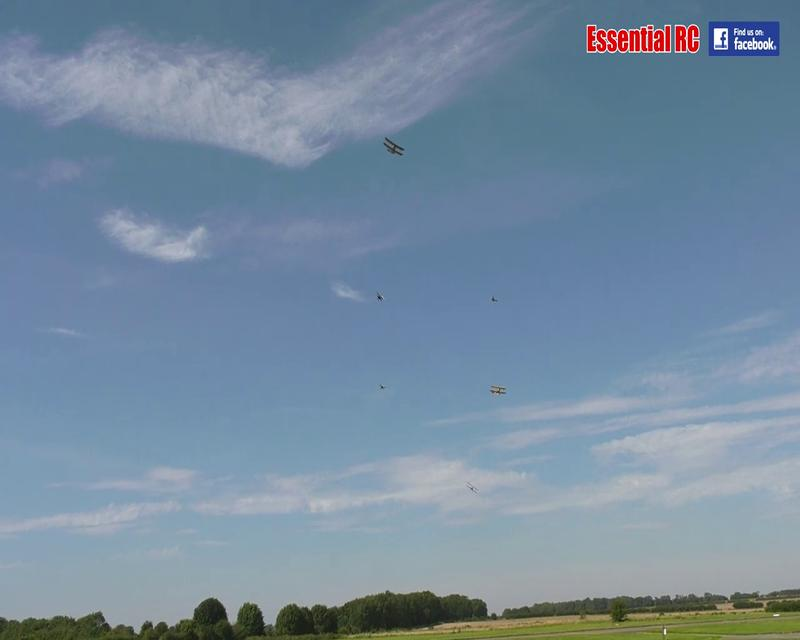UAV: (585, 22, 701, 54), (383, 136, 405, 156), (488, 382, 507, 396)
